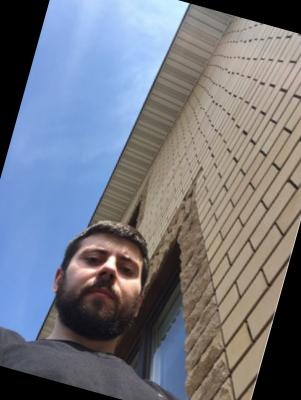without_mask: (52, 238, 150, 347)
